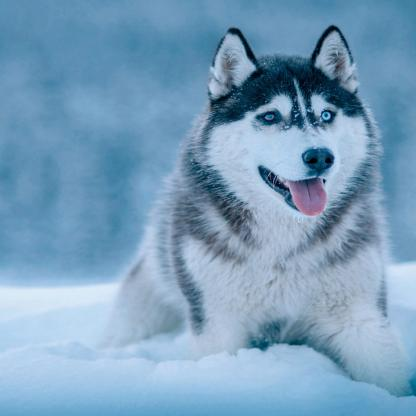husky: (100, 28, 416, 392)
